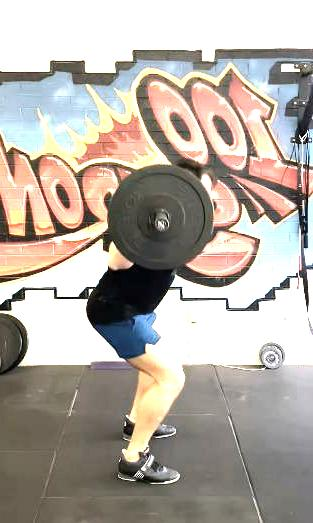Barbell: (151, 211, 171, 236)
